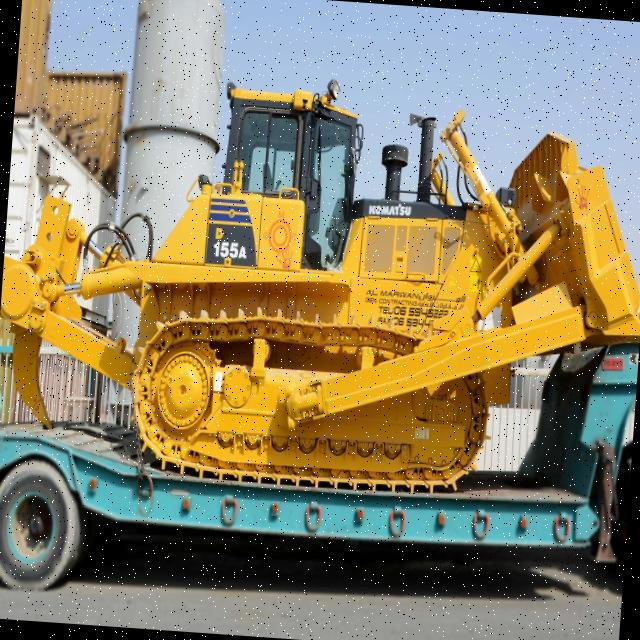Bulldozer: (0, 28, 640, 516)
